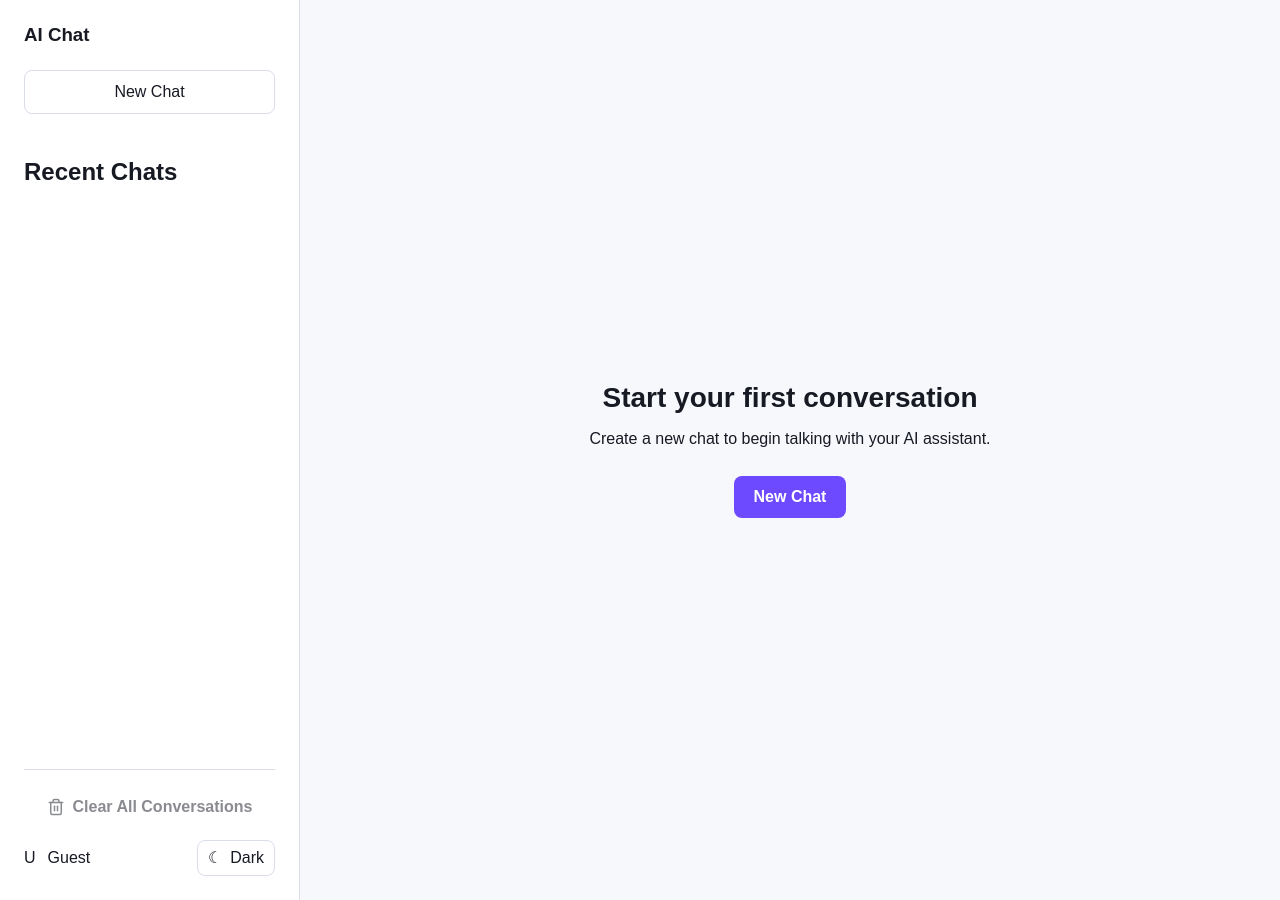
Test: AppLayout › truncates long chat titles
Click the button "New Chat" below "AI Chat".
click(150, 92)  # box 24,70 -> 275,114
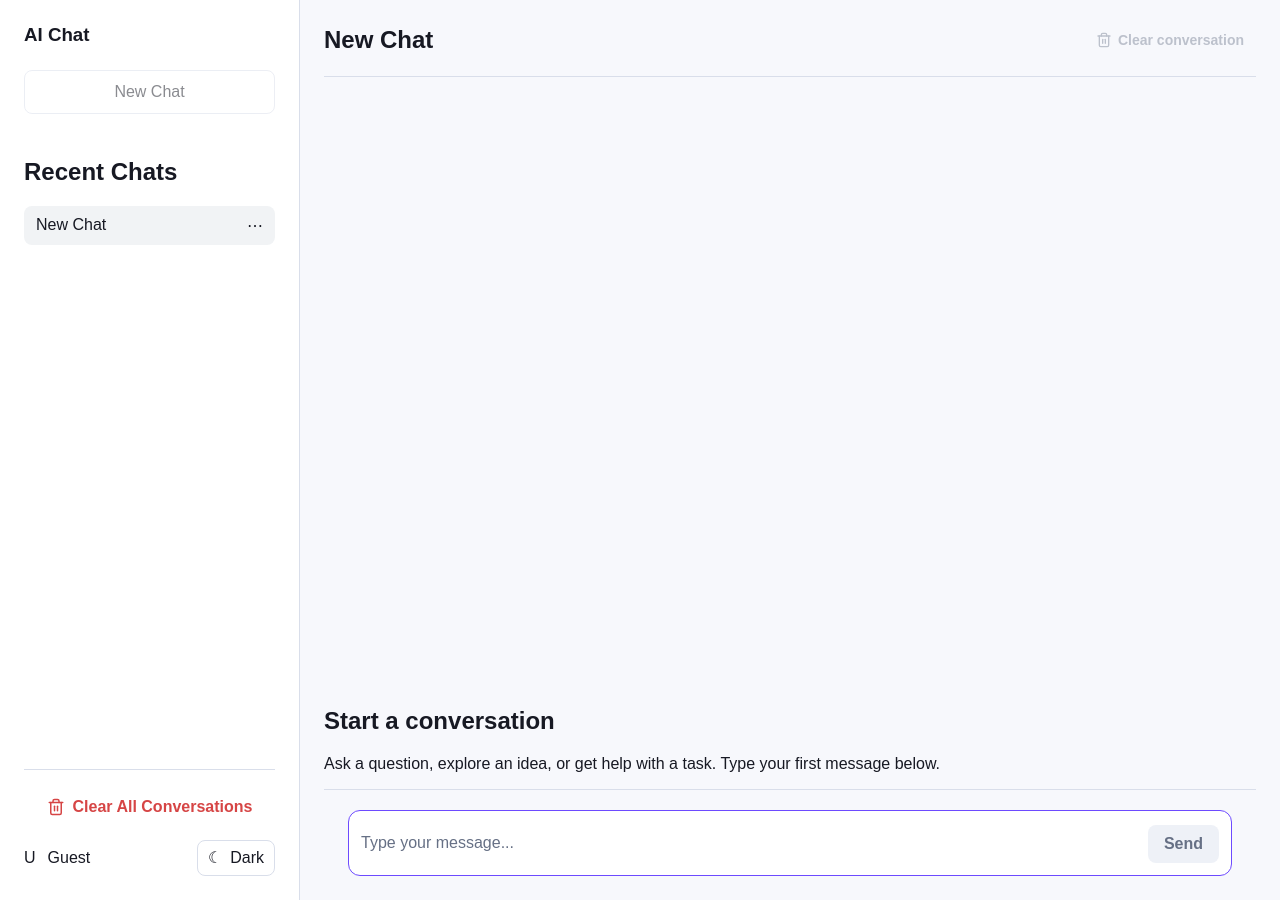
Type "This is a very long message that should become a truncated chat title" into the text box labelled "message".
click(748, 843); type("This is a very long message that should become a truncated chat title")  # box 361,823 -> 1136,863
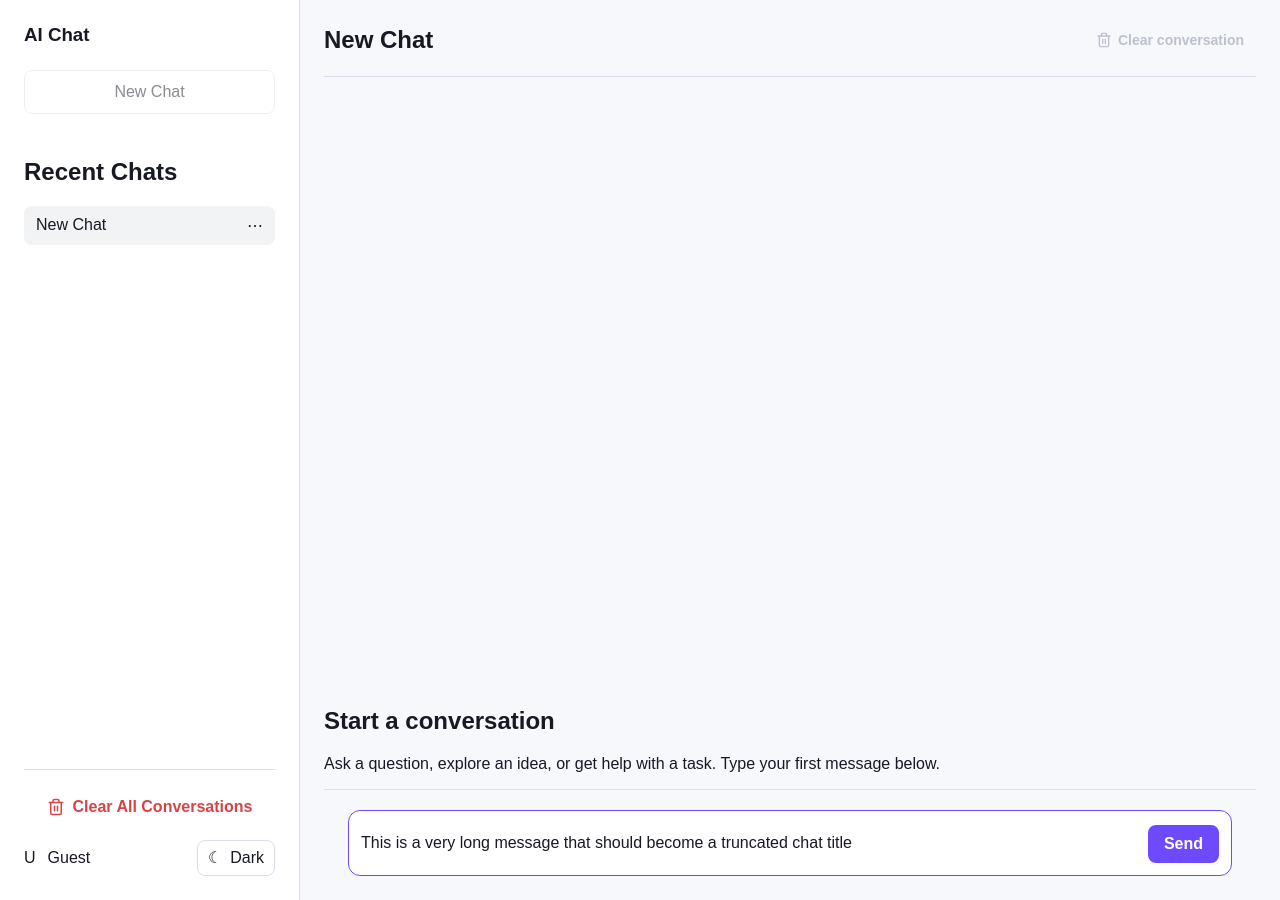
Click the button "Send".
click(1183, 844)  # box 1148,825 -> 1219,863
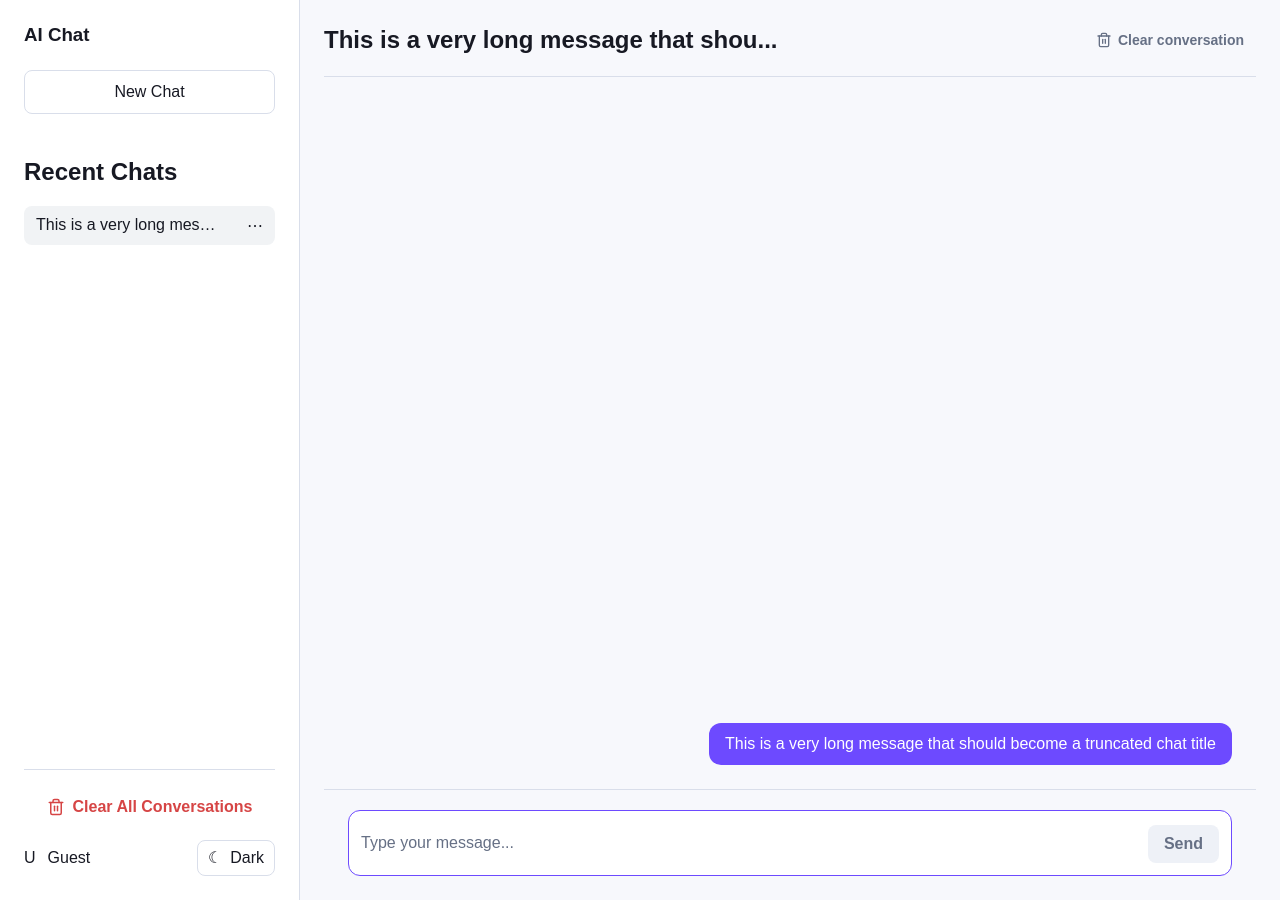
Expected: the heading "This is a very long message that shou..." is shown, 324,26 -> 778,54
